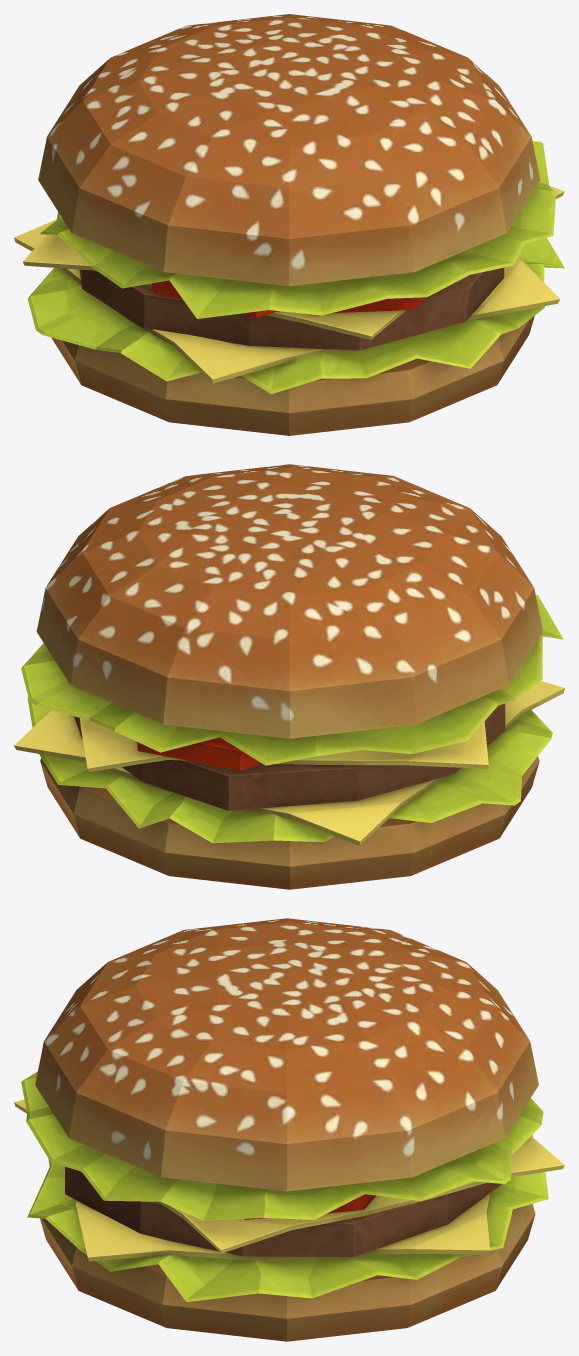
Rendered from burger.glb.
3 views of the same model, one above another, from view 1: azimuth 30°, elevation 25°; view 2: azimuth 150°, elevation 25°; view 3: azimuth 270°, elevation 25° (orthographic).
Visible parts, largest first — view 1: Hamburguer_Mesh; view 2: Hamburguer_Mesh; view 3: Hamburguer_Mesh.
Part boxes in pixels (x1,y1,x2,y2): Hamburguer_Mesh: (14,14,564,435); Hamburguer_Mesh: (14,464,564,889); Hamburguer_Mesh: (14,918,564,1341).
Bounding box in the file's own units: 7.24 × 3.81 × 7.15.
Materials: 1 (1 with a texture image).
